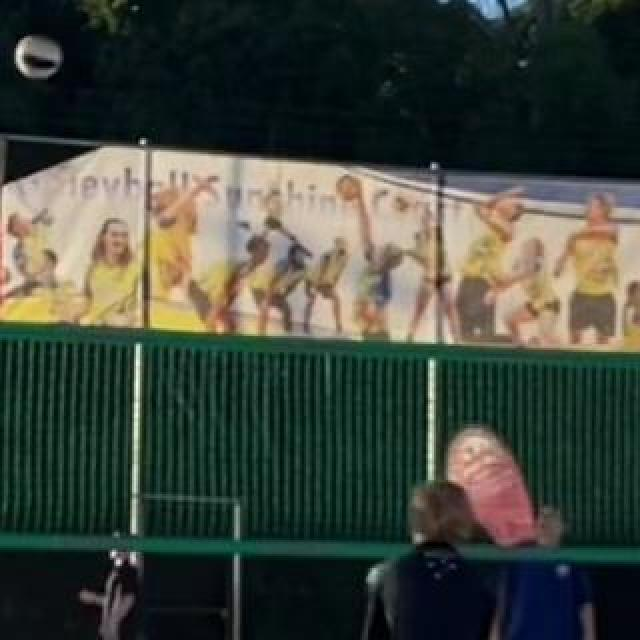volleyball: (15, 34, 61, 80)
